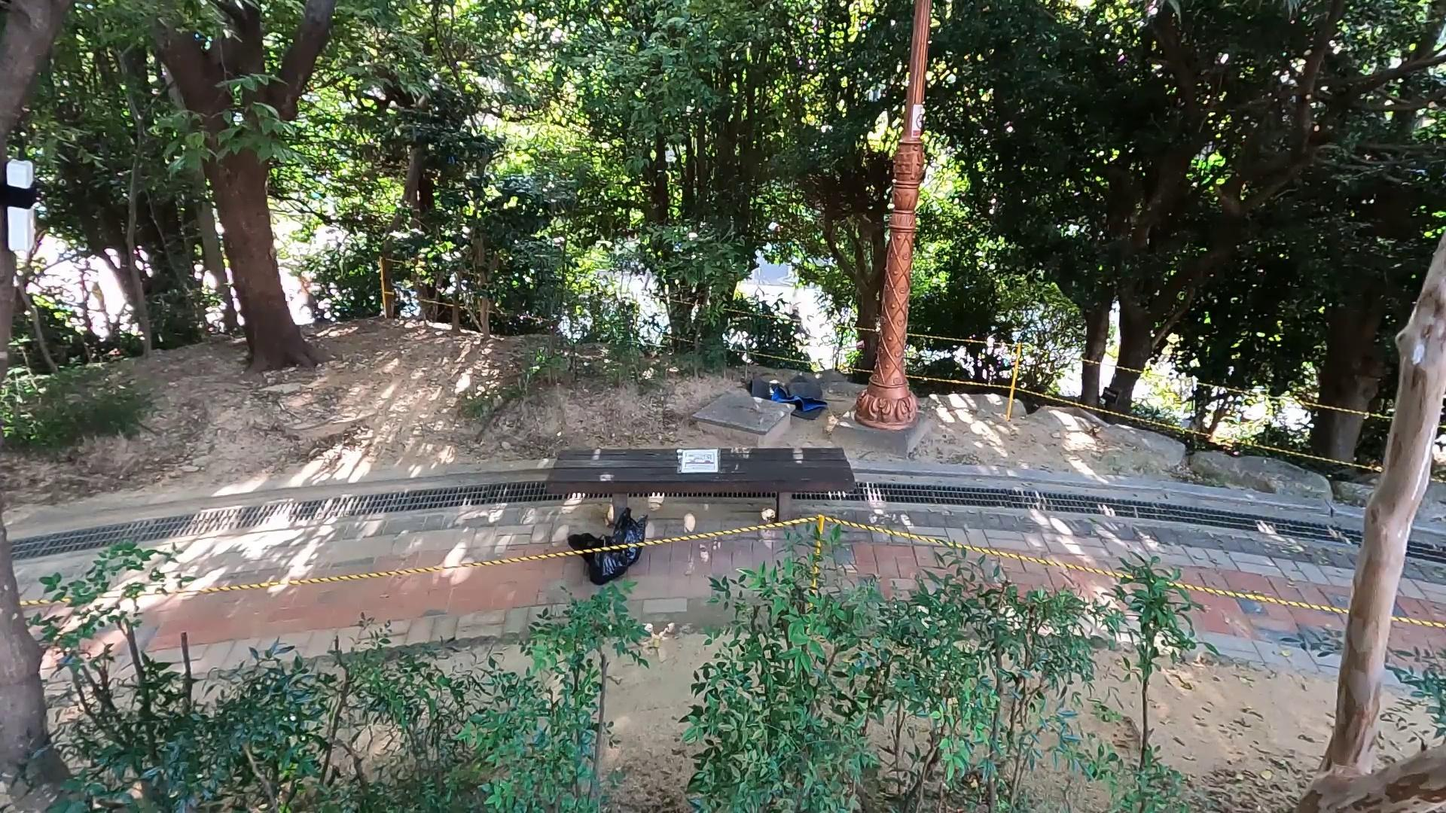trash: (740, 372, 826, 416), (603, 505, 652, 567), (584, 532, 630, 583), (567, 533, 613, 564)
